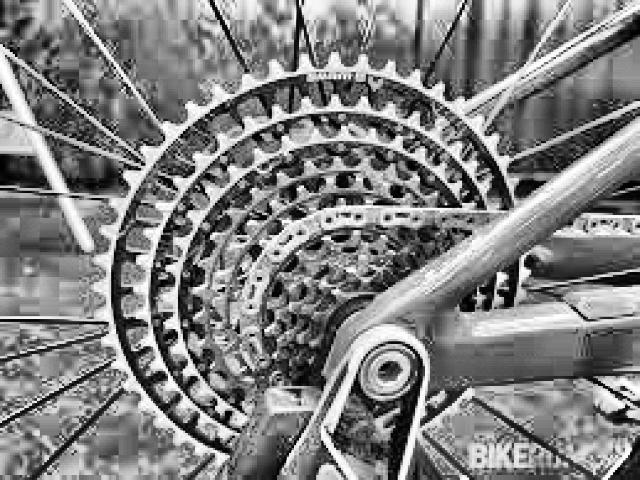cassette: (94, 53, 540, 470)
